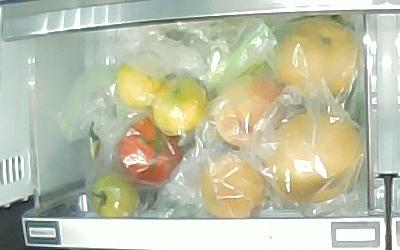peach_vinyl: (212, 74, 281, 145), (198, 150, 265, 216)
pear_vinyl: (262, 111, 364, 205), (275, 19, 361, 106)
tangerine_vinyl: (153, 75, 208, 135), (117, 59, 159, 107)
tomato_vinyl: (117, 117, 182, 182), (91, 175, 139, 218)
